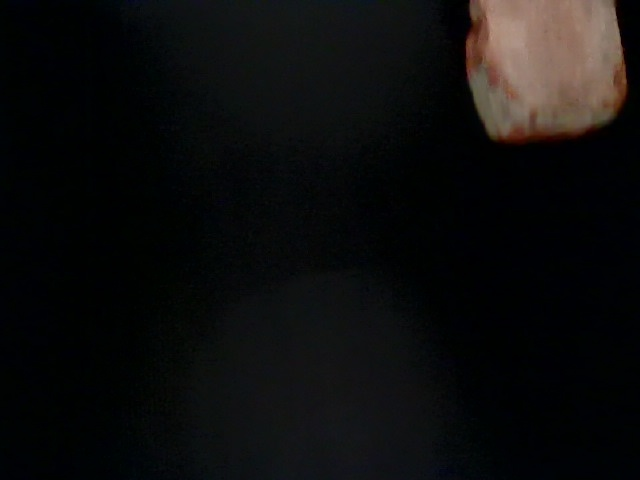KHSLJ: (1, 4, 285, 279)
